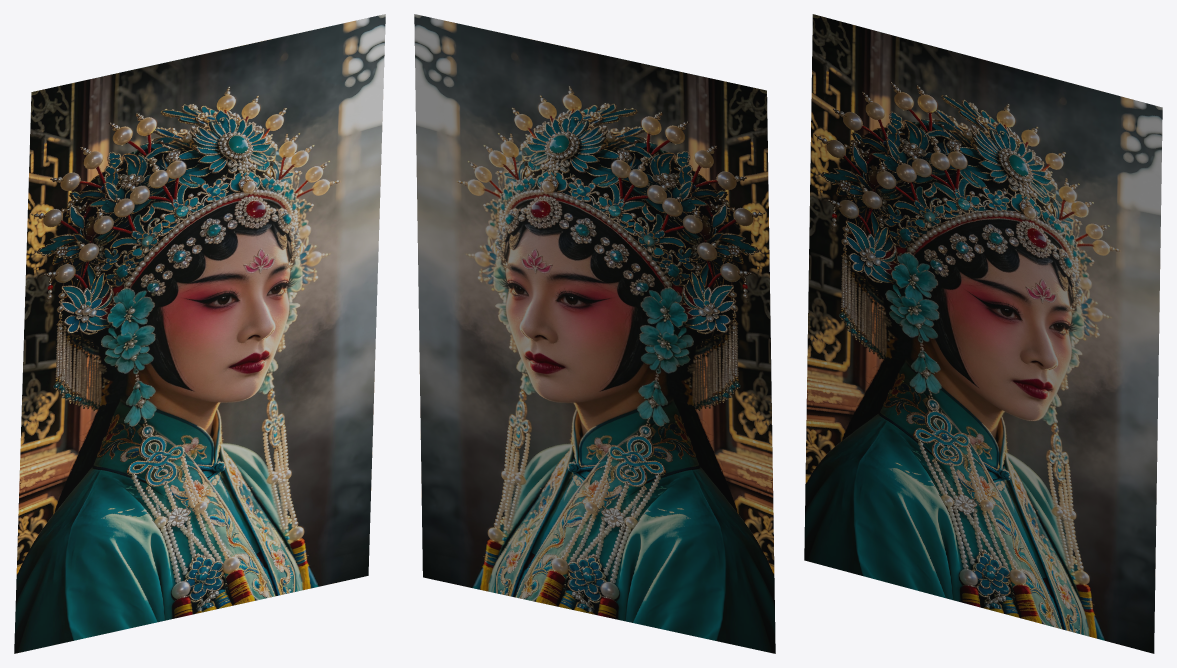
The model's file is hao (3).glb.
3 renders of one model, left to right at view 1: azimuth 30°, elevation 25°; view 2: azimuth 150°, elevation 25°; view 3: azimuth 330°, elevation 25°, orthographic.
Parts seen in each view (by area): view 1: 平面; view 2: 平面; view 3: 平面.
Boxes of the visible parts, x1,y1,x2,y2 form: 平面: (14, 14, 385, 653); 平面: (414, 14, 775, 653); 平面: (804, 14, 1162, 653).
Bounding box in the file's own units: 2.07 × 3.07 × 0.0483.
1 material, 1 textured.
